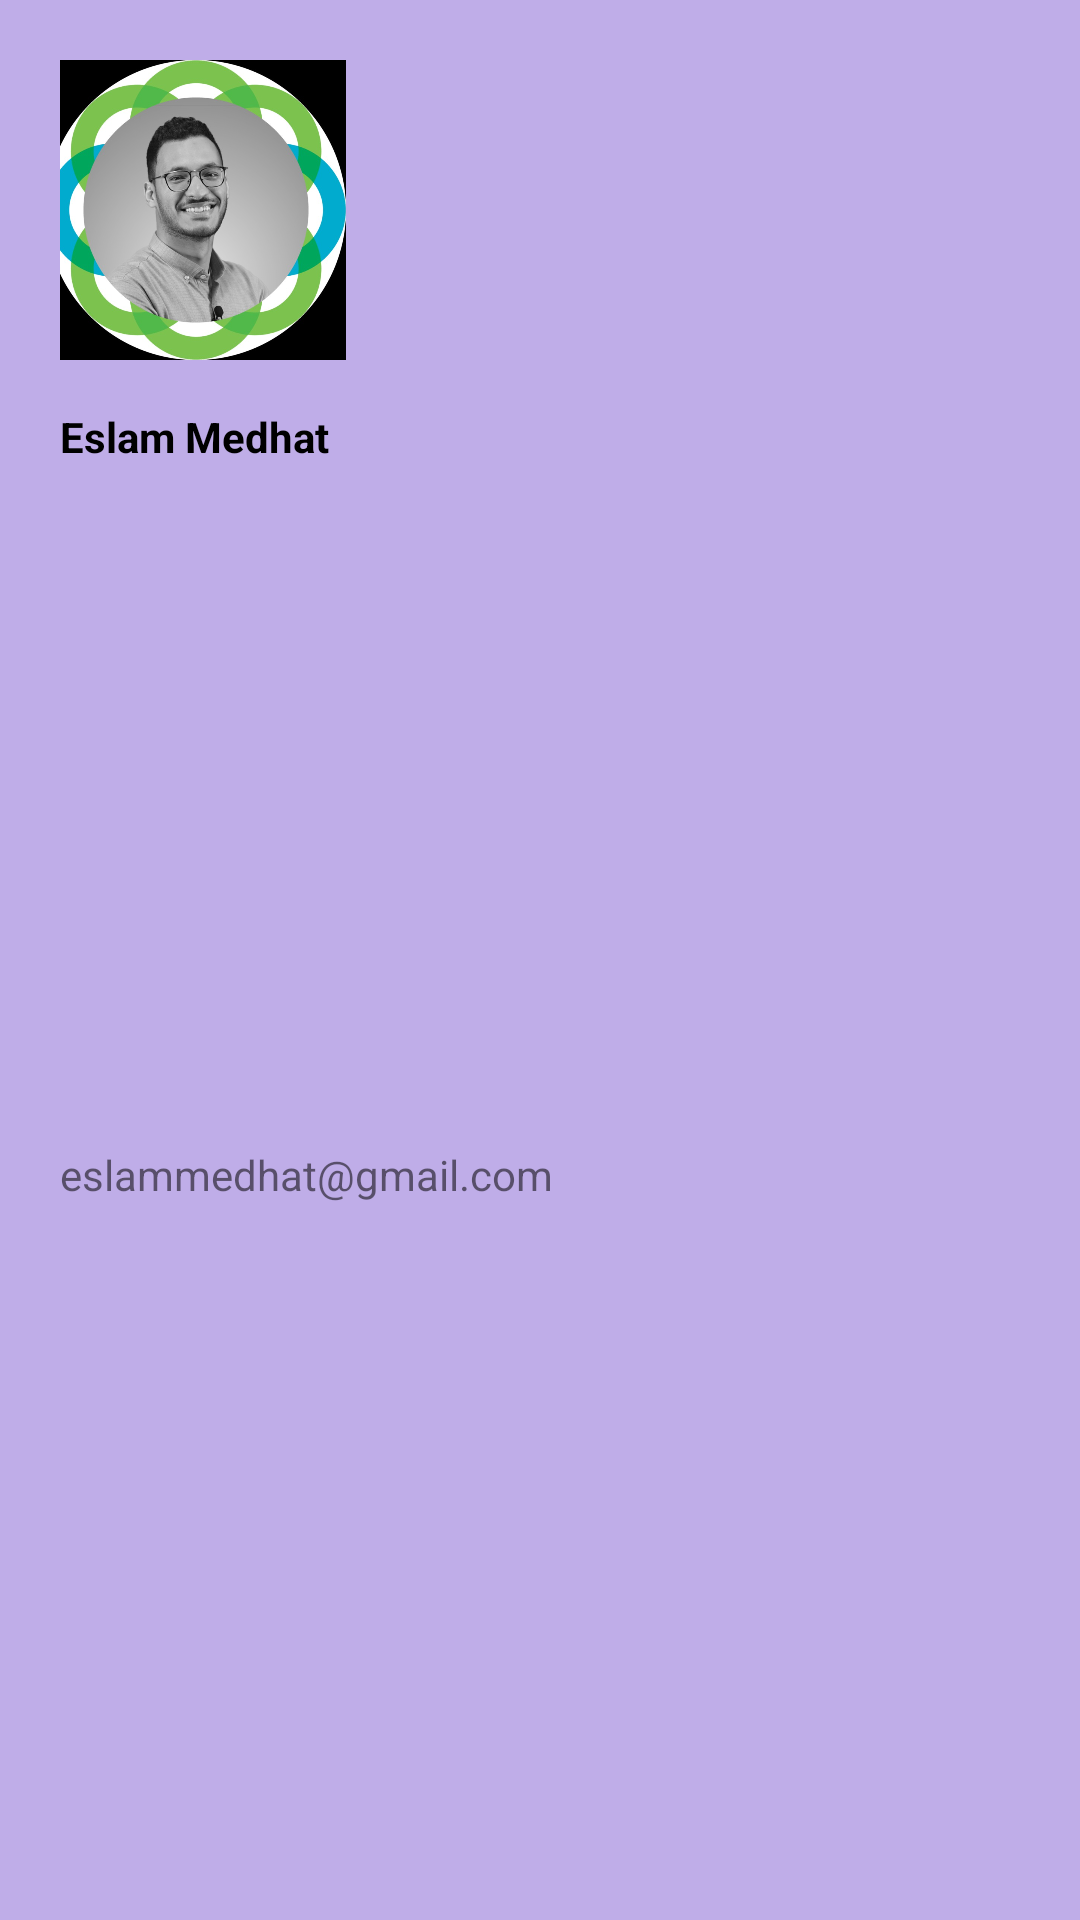

Where icons sit on this 1080*1920 app screen, as (x1, y1, x2, y2):
profilephoto: (60, 60, 346, 360)
